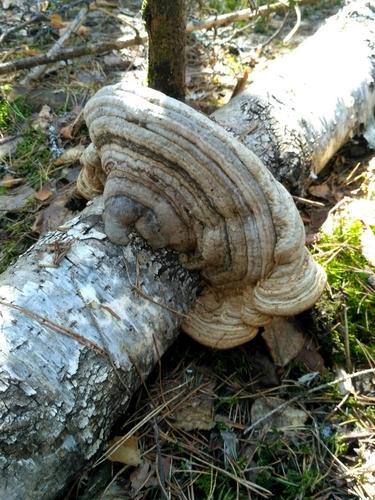Ganoderma - Fruit Body: (78, 81, 328, 351)
